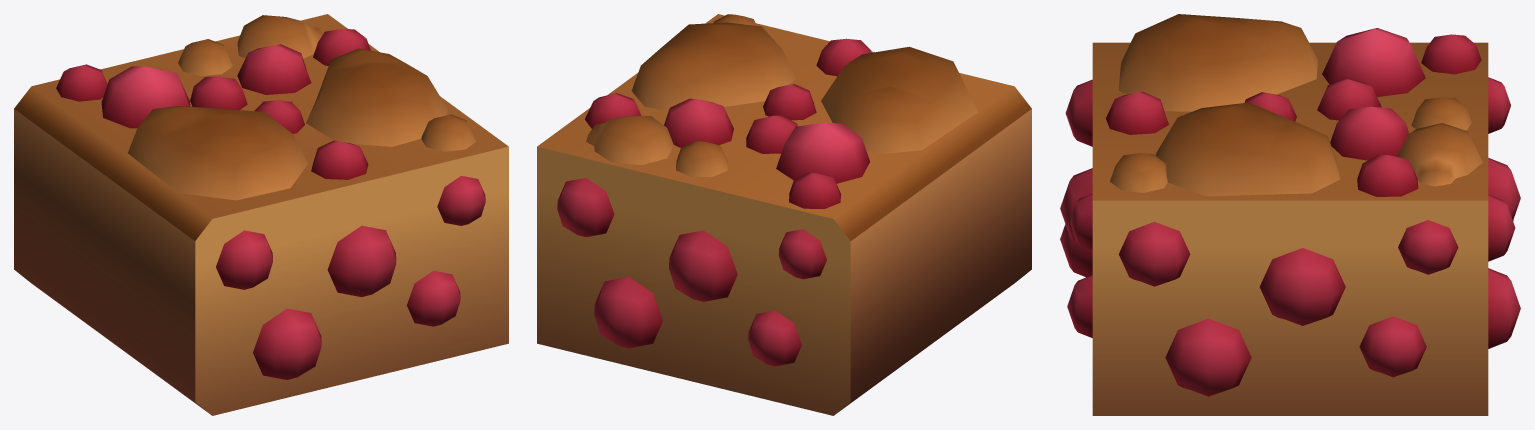
File: m_SheetCake04_Slice02.fbx
The picture shows the model from 3 angles, left to right: view 1: azimuth 30°, elevation 25°; view 2: azimuth 150°, elevation 25°; view 3: azimuth 270°, elevation 25°; orthographic projection. The views are drawn at different scales.
Visible parts, largest first — view 1: m_SheetCake04_Slice02; view 2: m_SheetCake04_Slice02; view 3: m_SheetCake04_Slice02.
Boxes of the visible parts, x1,y1,x2,y2 form: m_SheetCake04_Slice02: (14, 14, 508, 415); m_SheetCake04_Slice02: (537, 14, 1031, 415); m_SheetCake04_Slice02: (1060, 14, 1520, 415).
Size of the model in its own units: 10.82 by 7.57 by 11.65.
